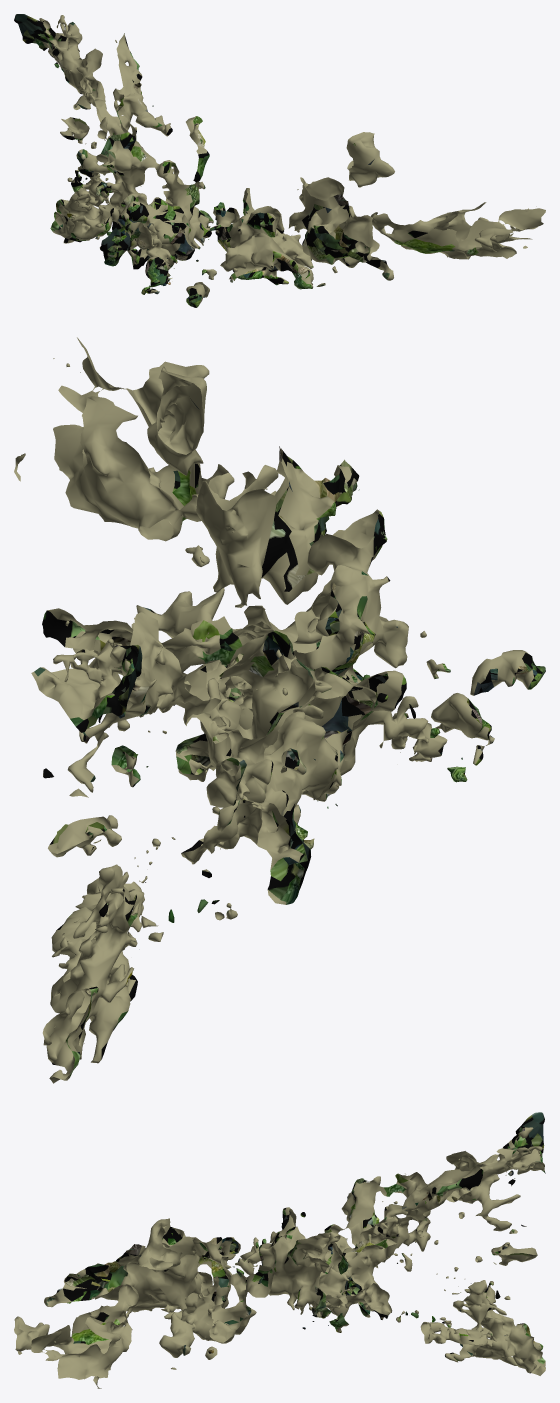
The model's file is catedral_lowpoly.obj.
The picture shows the model from 3 angles, top to bottom: view 1: azimuth 30°, elevation 25°; view 2: azimuth 150°, elevation 25°; view 3: azimuth 270°, elevation 25°; orthographic projection. The views are drawn at different scales.
Size of the model in its own units: 5.56 by 4.07 by 8.12.
